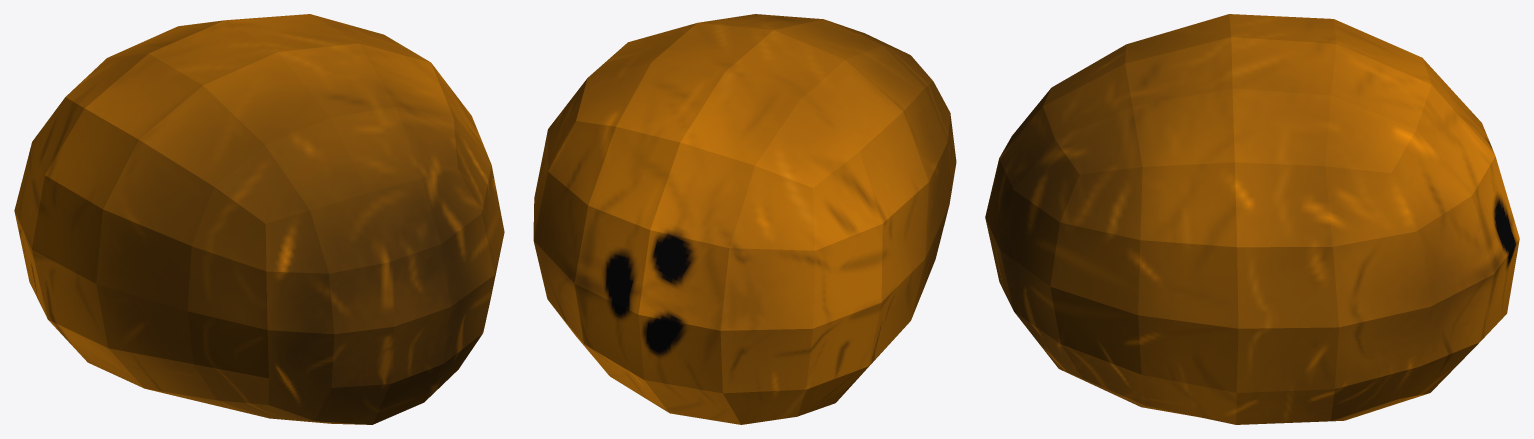
The model's file is Unitykokusnuss.fbx.
3 views of the same model, side by side, from view 1: azimuth 30°, elevation 25°; view 2: azimuth 150°, elevation 25°; view 3: azimuth 270°, elevation 25° (orthographic). The views are drawn at different scales.
Parts seen in each view (by area): view 1: Cube; view 2: Cube; view 3: Cube.
Part boxes in pixels (box(x1,y1,x2,y2)): Cube: box(14, 14, 504, 424); Cube: box(533, 14, 956, 424); Cube: box(985, 14, 1519, 424).
Bounding box in the file's own units: 11.62 × 10.28 × 13.86.
